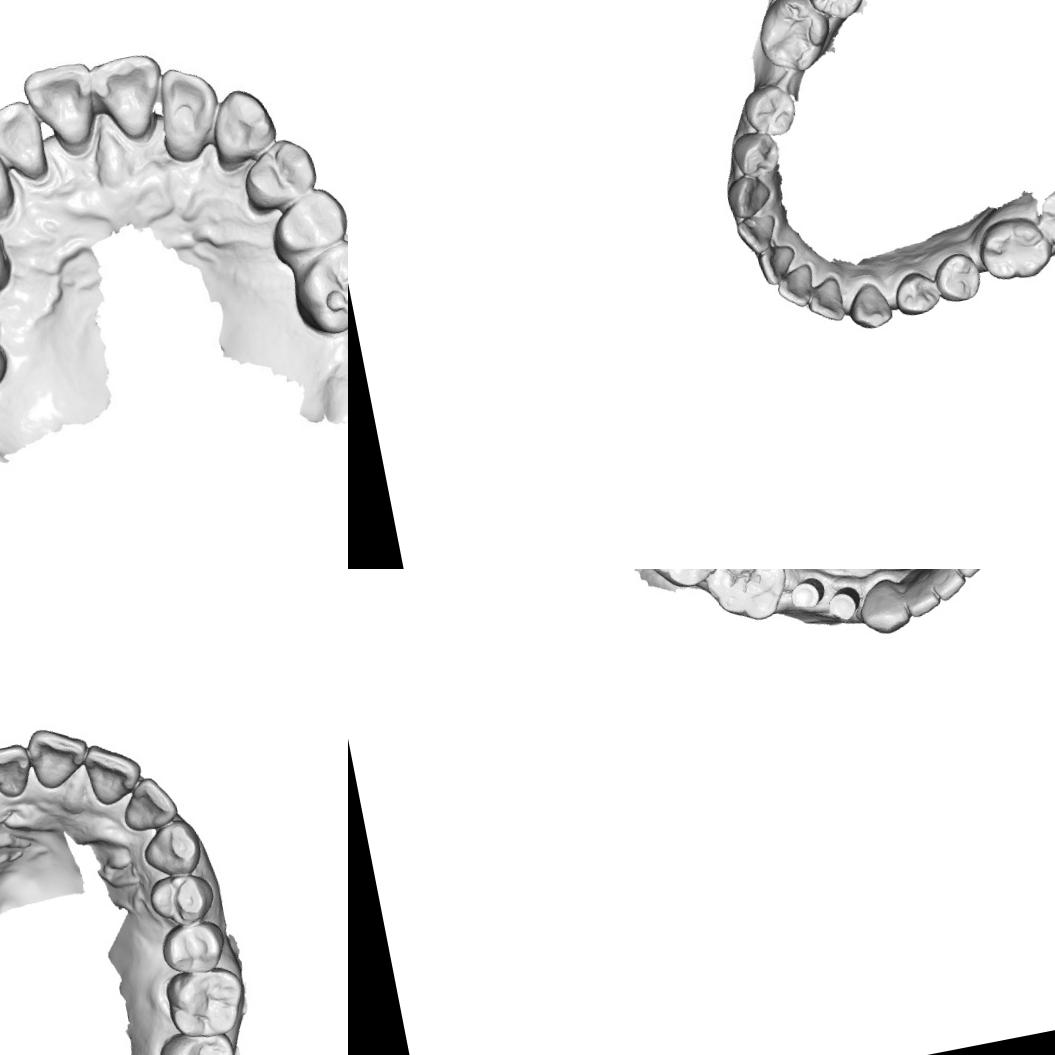abutment: (786, 570, 827, 614), (823, 581, 863, 624)
canine: (200, 80, 280, 172), (136, 815, 204, 882), (853, 574, 914, 640), (842, 277, 896, 334), (721, 170, 775, 220), (0, 129, 18, 226)
incisor: (15, 56, 108, 159), (83, 43, 174, 142), (145, 58, 227, 164), (21, 717, 98, 794), (76, 734, 148, 808), (0, 93, 55, 188), (118, 769, 182, 832), (0, 731, 37, 805), (802, 272, 848, 326), (732, 210, 782, 258), (772, 261, 819, 312), (898, 570, 944, 620), (754, 241, 800, 288), (926, 569, 969, 603), (945, 569, 993, 580)
molar: (161, 960, 254, 1042), (750, 0, 839, 79), (283, 233, 348, 340), (971, 209, 1055, 287), (701, 569, 794, 629), (152, 1023, 241, 1055), (633, 569, 730, 594), (792, 0, 873, 28), (1035, 181, 1055, 252)
premolar: (235, 133, 322, 220), (263, 183, 348, 265), (144, 863, 218, 929), (155, 916, 236, 976), (737, 78, 800, 142), (929, 247, 985, 306), (724, 126, 782, 181), (889, 266, 944, 320)
